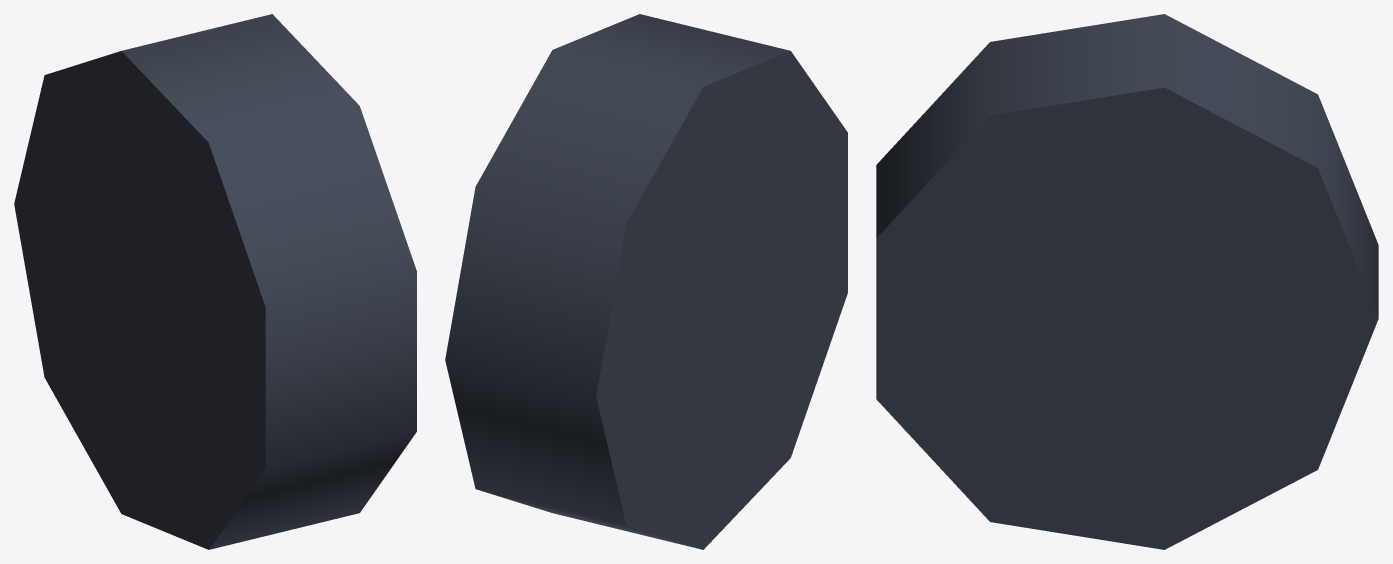
The model's file is Pipe_1_F_4.fbx.
The picture shows the model from 3 angles, left to right: view 1: azimuth 30°, elevation 25°; view 2: azimuth 150°, elevation 25°; view 3: azimuth 270°, elevation 25°; orthographic projection.
Parts seen in each view (by area): view 1: Pipe_1_F_4; view 2: Pipe_1_F_4; view 3: Pipe_1_F_4.
Boxes of the visible parts, x1,y1,x2,y2 form: Pipe_1_F_4: (14,14,416,549); Pipe_1_F_4: (445,14,847,549); Pipe_1_F_4: (876,14,1378,549).
Bounding box in the file's own units: 10.28 × 30.12 × 29.66.
